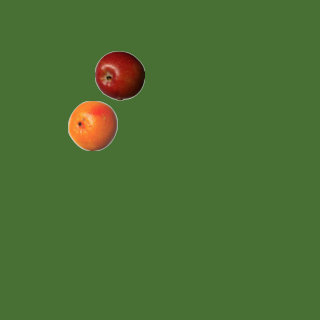Apple Braeburn: (94, 50, 144, 100)
Grapefruit Pink: (67, 100, 117, 150)
